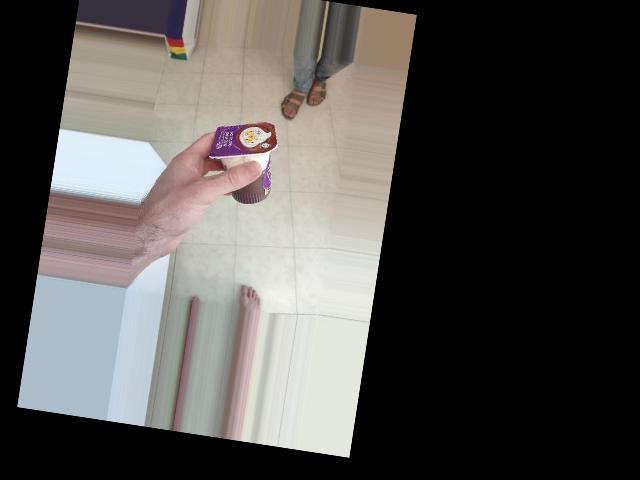milky: (217, 110, 312, 184)
